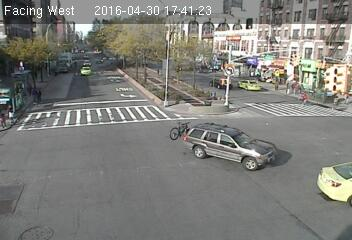neg: (170, 118, 189, 144), (125, 56, 144, 81), (39, 9, 58, 33), (327, 66, 343, 88), (235, 139, 250, 159), (317, 124, 331, 143), (100, 145, 112, 161), (222, 66, 234, 81), (31, 210, 42, 226), (225, 30, 236, 45), (280, 3, 291, 17)
pos: (3, 104, 19, 126), (30, 86, 46, 107), (298, 89, 311, 107), (284, 78, 296, 94)
